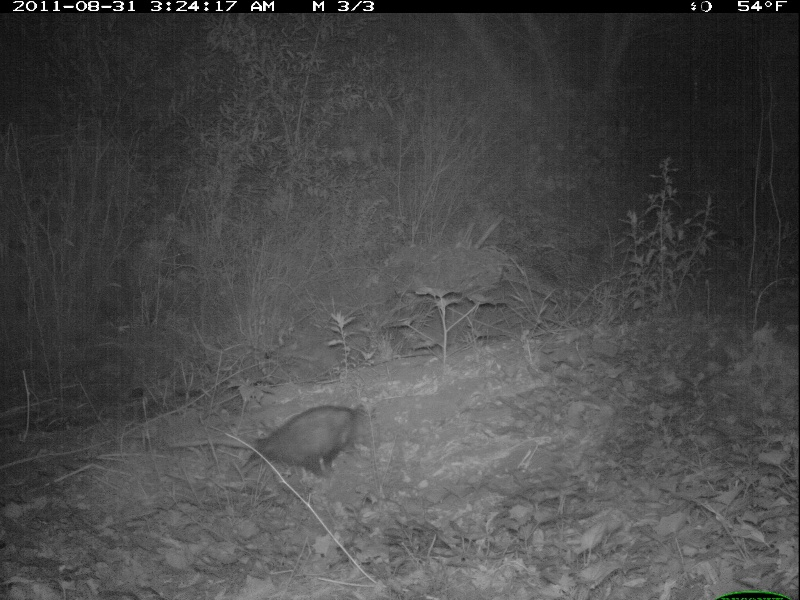opossum: (172, 401, 367, 480)
